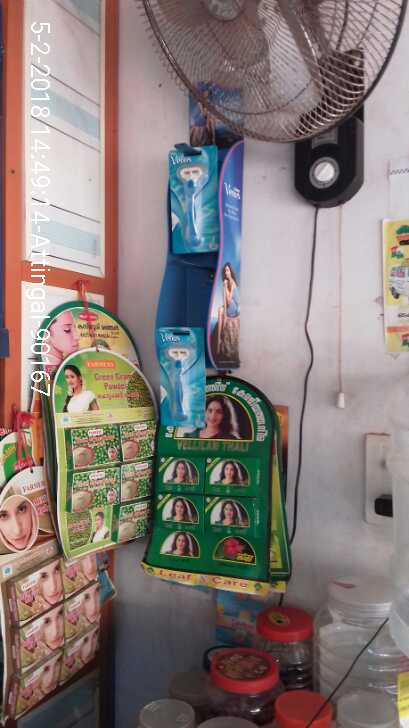venus: (163, 145, 219, 253), (155, 328, 207, 426)
